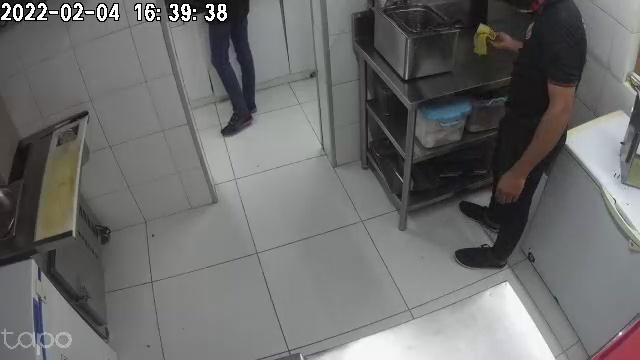no_gloves: (496, 162, 528, 204)
